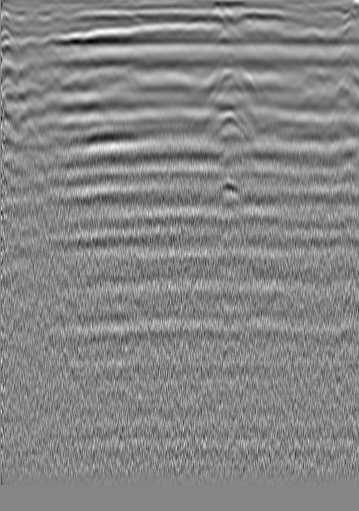가스: (209, 175, 245, 205)
상수: (301, 23, 321, 43)
오수: (19, 34, 39, 54)
우수: (157, 28, 177, 48)
